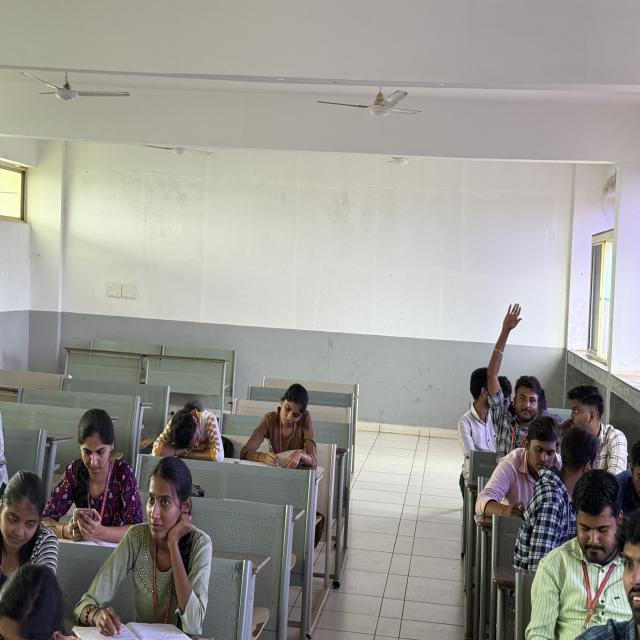Hand Rising: (483, 298, 546, 446)
Sleeping: (145, 396, 233, 466)
Using Phone: (38, 403, 141, 540)
Writing: (235, 382, 324, 472)
